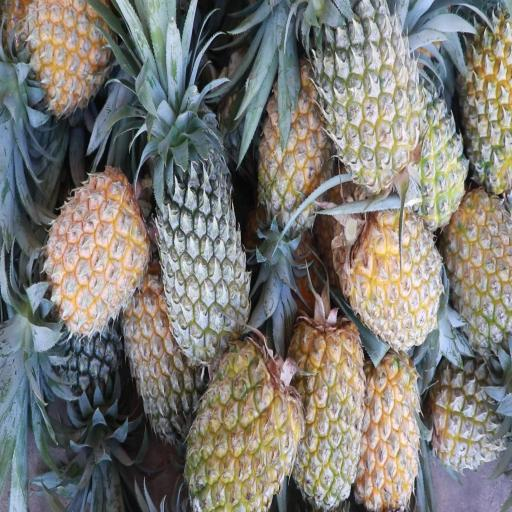------------------------------: (318, 6, 419, 180), (121, 280, 193, 445), (443, 200, 512, 342), (455, 35, 512, 197), (426, 364, 496, 469)
Pineapple - v8 v1: (186, 345, 302, 512), (45, 169, 149, 329), (340, 190, 442, 348), (288, 324, 362, 500), (260, 64, 334, 225), (21, 0, 110, 109), (358, 351, 418, 512)
